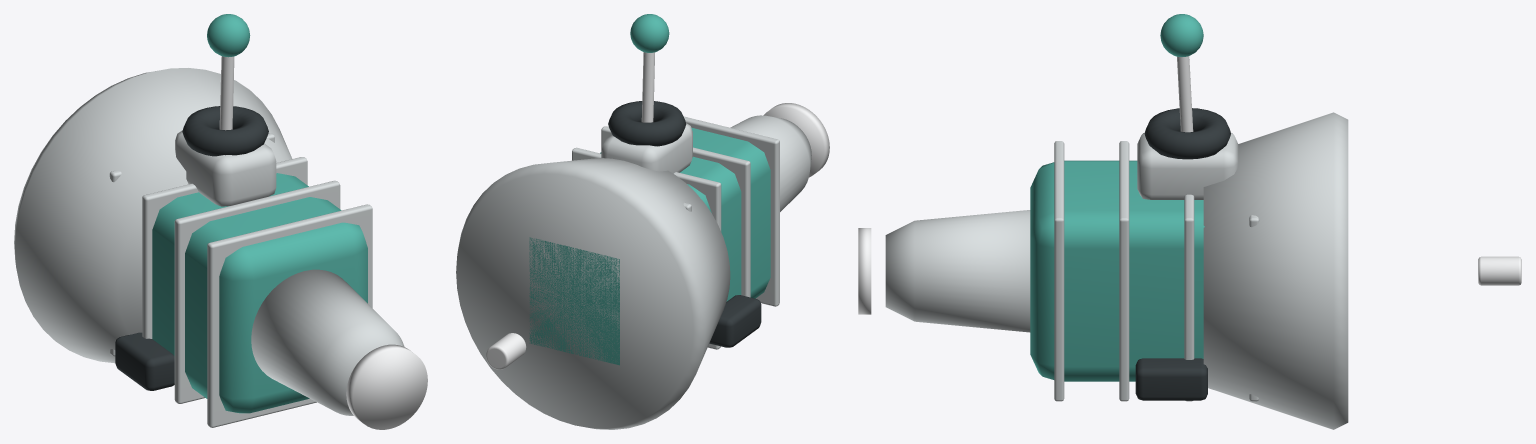
Rendered from transmission_close.fbx.
3 renders of one model, left to right at view 1: azimuth 30°, elevation 25°; view 2: azimuth 150°, elevation 25°; view 3: azimuth 270°, elevation 25°, orthographic. The views are drawn at different scales.
Visible parts, largest first — view 1: transmission_close; view 2: transmission_close; view 3: transmission_close.
Boxes of the visible parts, bbox=[...] form: transmission_close: bbox=[14, 14, 427, 429]; transmission_close: bbox=[456, 14, 829, 429]; transmission_close: bbox=[858, 14, 1521, 429].
Bounding box in the file's own units: 44 × 60.98 × 91.8.
